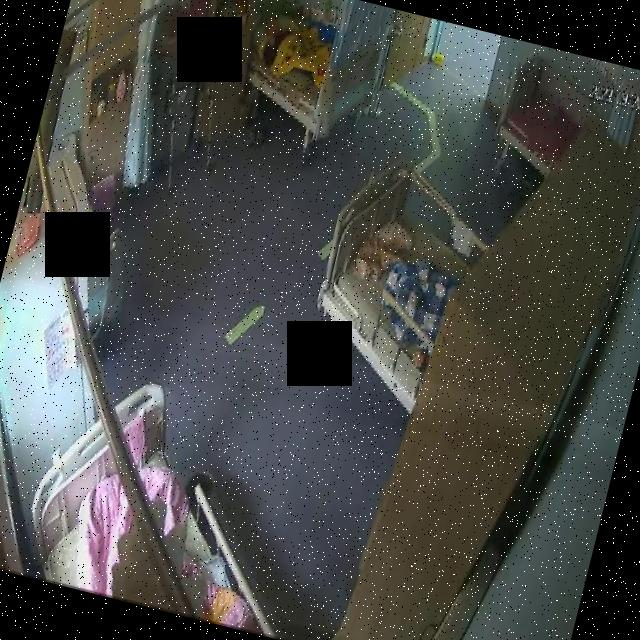bed: (14, 359, 302, 632), (300, 152, 496, 408), (236, 0, 391, 143), (487, 48, 595, 182)
